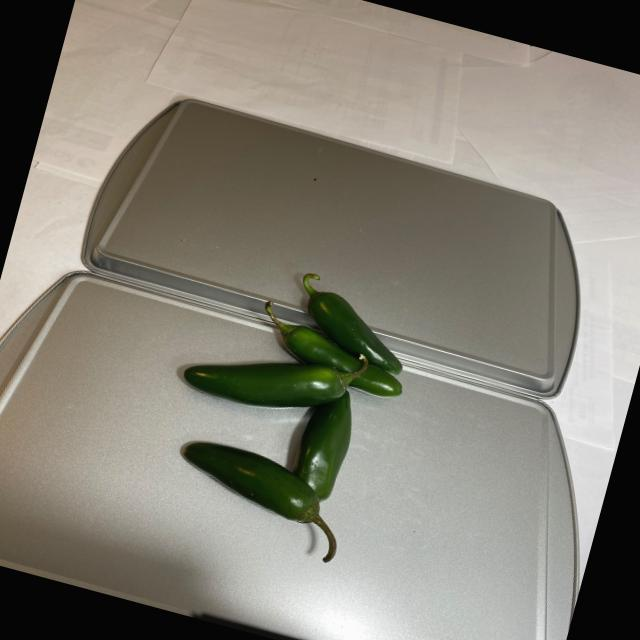chilli: (146, 241, 420, 557)
